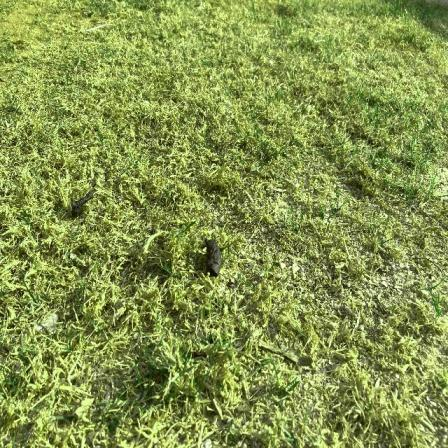dog-poop: (204, 232, 226, 280), (68, 186, 99, 215)
